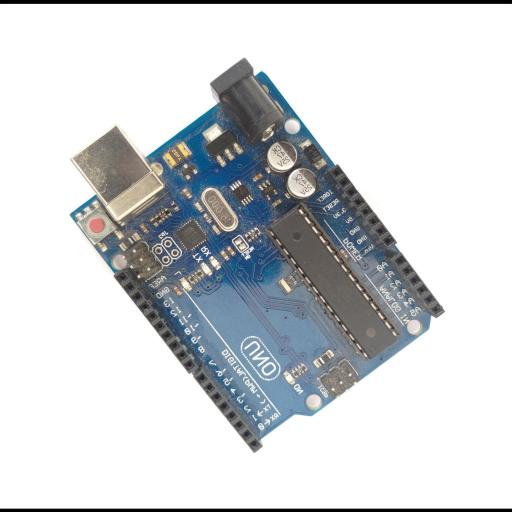Arduino Uno R3: (68, 57, 446, 453)
